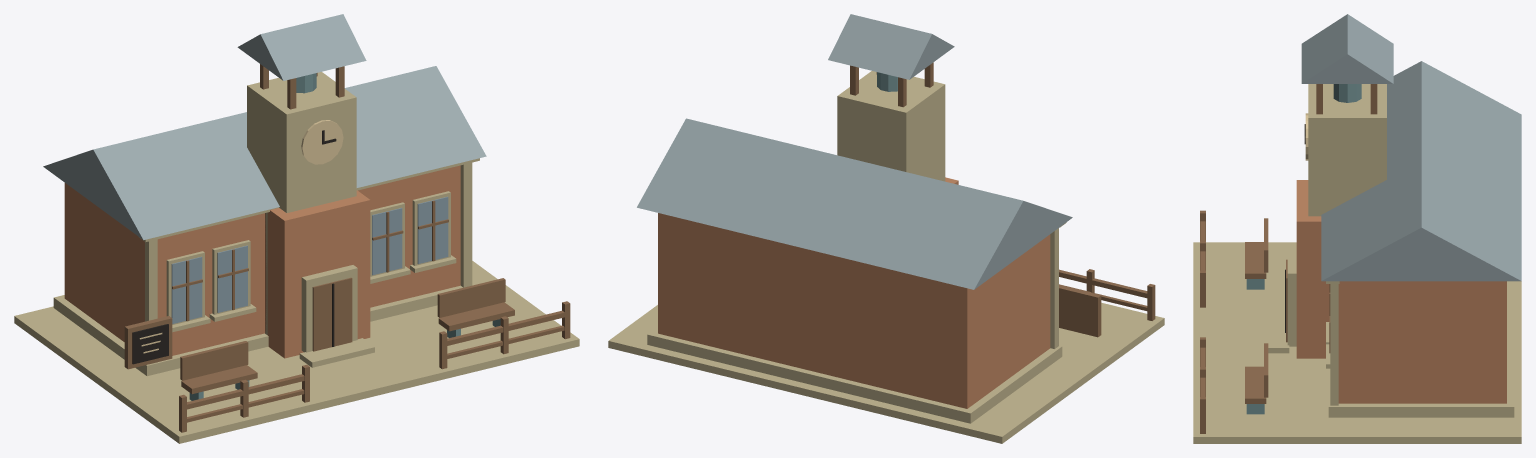
The model's file is era2-school-C47YFMxp.glb.
The picture shows the model from 3 angles, left to right: view 1: azimuth 30°, elevation 25°; view 2: azimuth 150°, elevation 25°; view 3: azimuth 270°, elevation 25°; orthographic projection.
Visible parts, largest first — view 1: School_SlateRoof, School_Courtyard, School_Classroom, School_EntranceWing, School_ClockTower, School_BellRoof, School_Plinth, SchoolDoor, SchoolPortal, School_BenchBack, School_BenchBack.001, School_Window3Glass (+20 smaller); view 2: School_Classroom, School_SlateRoof, School_Courtyard, School_ClockTower, School_Plinth, School_BellRoof, School_SlateBoardFrame, School_Pier0, School_FrontRail; view 3: School_SlateRoof, School_Courtyard, School_Classroom, School_ClockTower, School_BellRoof, School_EntranceWing, School_Plinth, School_Pier3, SchoolPortal, SchoolStep, School_BenchSeat.001, School_BenchSeat (+1 smaller).
Part boxes in pixels (<box>): School_SlateRoof: <box>43,66,486,240</box>; School_Courtyard: <box>14,261,579,443</box>; School_Classroom: <box>64,165,460,355</box>; School_EntranceWing: <box>265,190,370,358</box>; School_ClockTower: <box>247,72,356,212</box>; School_BellRoof: <box>237,14,366,80</box>; School_Plinth: <box>53,283,474,376</box>; SchoolDoor: <box>312,277,352,351</box>; SchoolPortal: <box>301,265,357,352</box>; School_BenchBack: <box>180,341,248,380</box>; School_BenchBack.001: <box>437,278,505,317</box>; School_Window3Glass: <box>417,196,448,263</box>; School_Classroom: <box>658,213,1050,408</box>; School_SlateRoof: <box>637,118,1072,289</box>; School_Courtyard: <box>608,302,1164,443</box>; School_ClockTower: <box>837,71,945,181</box>; School_Plinth: <box>647,327,1062,423</box>; School_BellRoof: <box>828,14,954,79</box>; School_SlateBoardFrame: <box>1059,285,1101,337</box>; School_Pier0: <box>1050,228,1058,348</box>; School_FrontRail: <box>1059,269,1147,298</box>; School_SlateRoof: <box>1321,61,1521,281</box>; School_Courtyard: <box>1193,242,1521,443</box>; School_Classroom: <box>1338,281,1506,403</box>; School_ClockTower: <box>1308,84,1386,216</box>; School_BellRoof: <box>1301,14,1393,83</box>; School_EntranceWing: <box>1296,180,1329,358</box>; School_Plinth: <box>1328,281,1514,417</box>; School_Pier3: <box>1330,284,1338,405</box>; SchoolPortal: <box>1287,248,1296,346</box>; SchoolStep: <box>1264,317,1289,353</box>; School_BenchSeat.001: <box>1245,366,1266,403</box>; School_BenchSeat: <box>1245,242,1266,278</box>.
Size of the model in its own units: 14 by 10.5 by 10.
